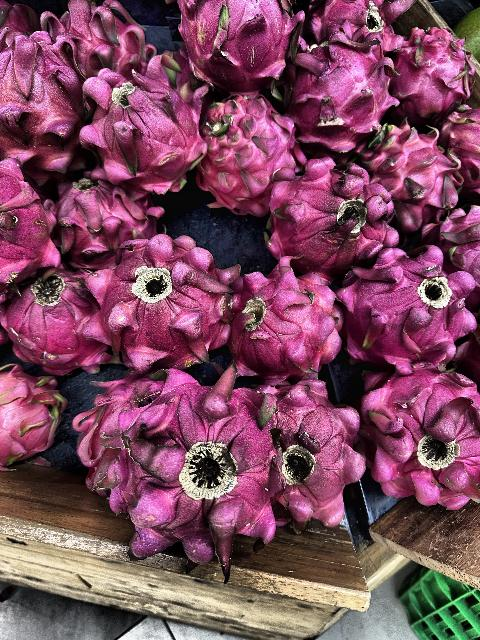buah-naga-matang: (111, 380, 280, 574), (342, 356, 480, 500), (338, 234, 474, 366), (246, 377, 368, 523), (82, 247, 226, 366), (83, 62, 209, 190), (223, 251, 350, 375), (281, 17, 397, 142), (272, 158, 396, 264), (0, 263, 108, 382), (0, 26, 82, 172), (196, 99, 302, 208), (179, 0, 291, 94), (48, 170, 167, 256), (363, 118, 453, 225), (40, 0, 140, 80), (0, 366, 64, 480), (0, 160, 50, 292), (394, 31, 468, 108), (426, 208, 480, 294), (434, 100, 480, 186)
